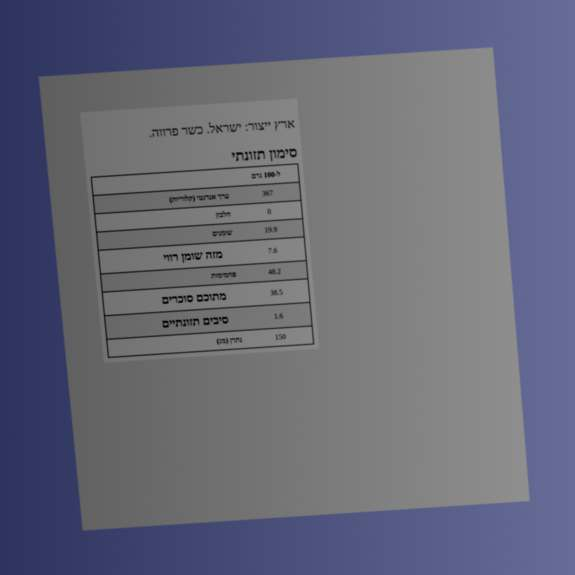carbs: (267, 266, 282, 277)
energy: (261, 188, 274, 198)
fat: (263, 224, 279, 235)
protein: (266, 206, 272, 216)
